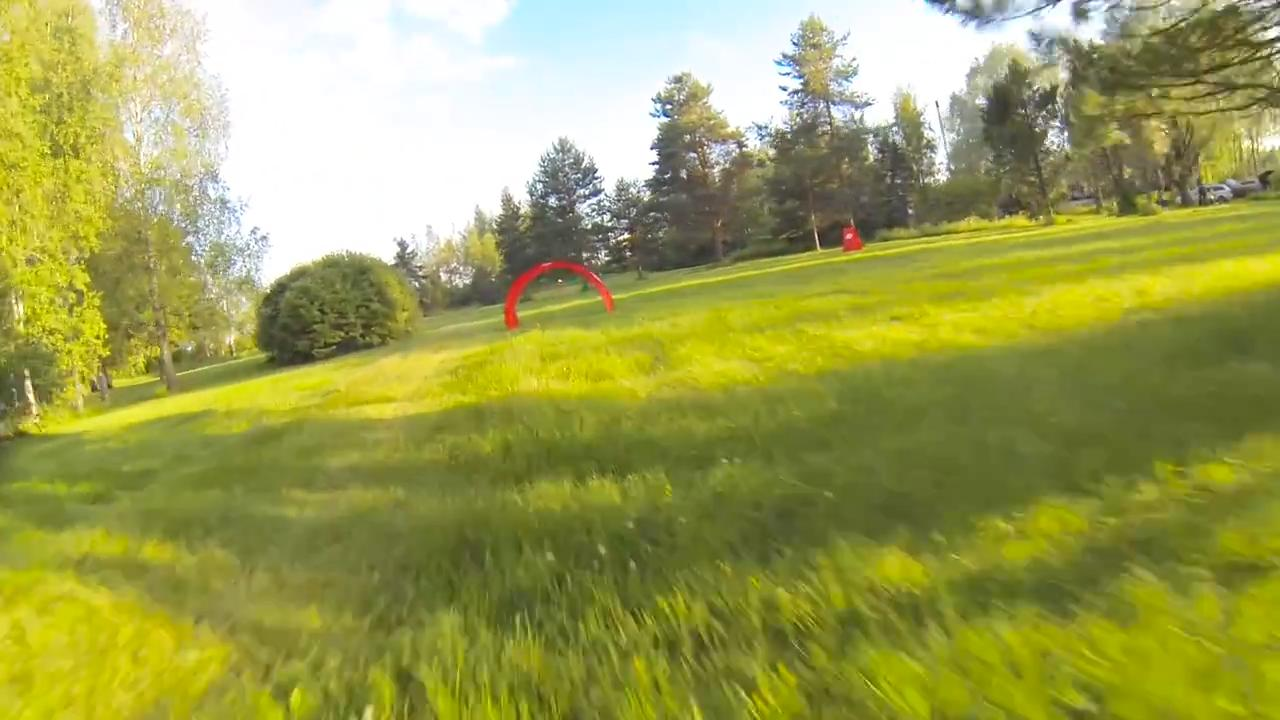gate: (503, 258, 622, 327)
